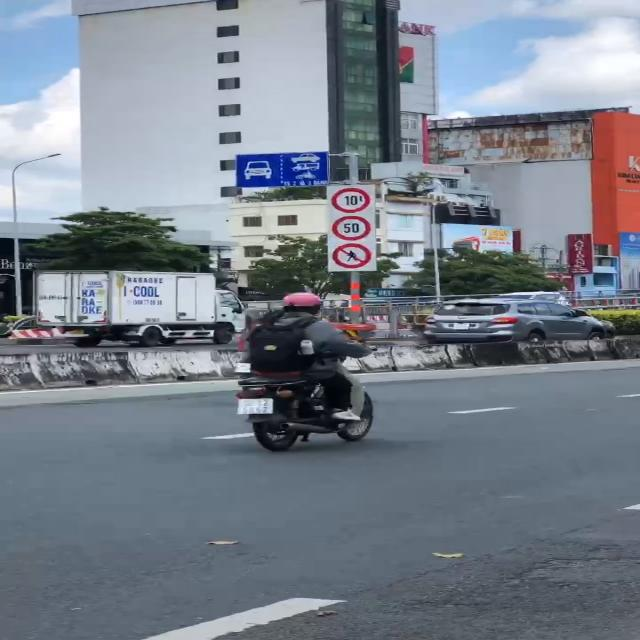Bien bao cam nguoi di bo: (331, 242, 372, 270)
Bien bao toc do toi da cho phep: (332, 214, 374, 242)
